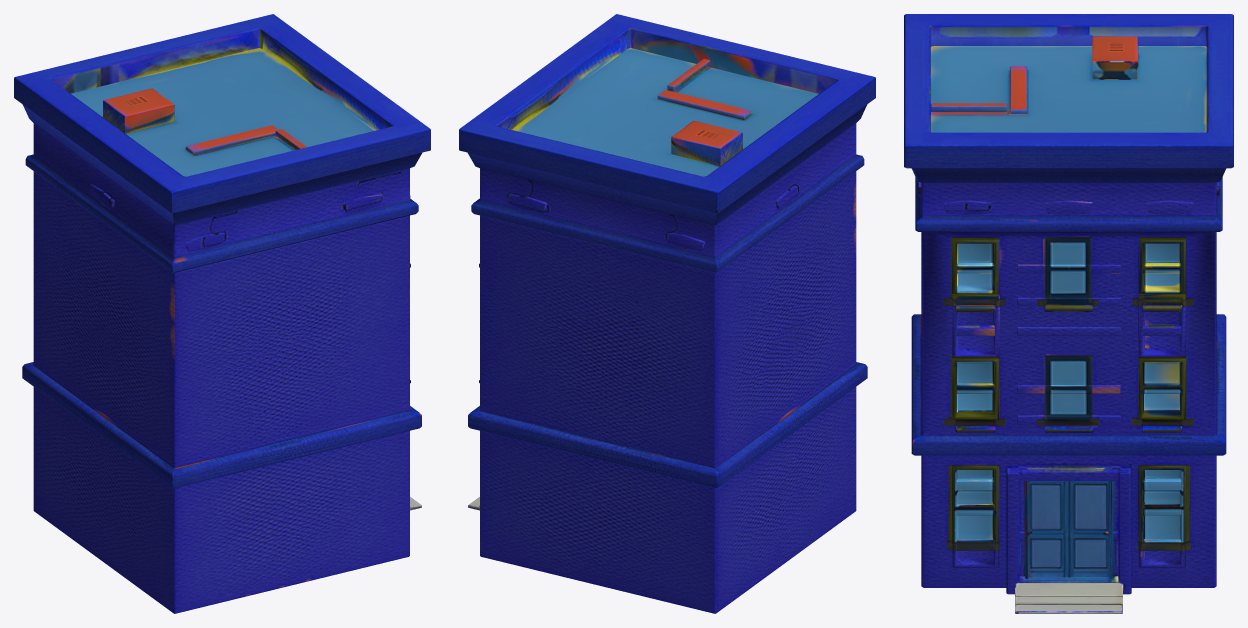
The model's file is buildingBlue_002.fbx.
3 views of the same model, side by side, from view 1: azimuth 30°, elevation 25°; view 2: azimuth 150°, elevation 25°; view 3: azimuth 270°, elevation 25° (orthographic). The views are drawn at different scales.
Parts seen in each view (by area): view 1: tripo_convert_39812008_5886_450b_83b3_f9960a14da0f_Mesh; view 2: tripo_convert_39812008_5886_450b_83b3_f9960a14da0f_Mesh; view 3: tripo_convert_39812008_5886_450b_83b3_f9960a14da0f_Mesh.
Boxes of the visible parts, <box> form: tripo_convert_39812008_5886_450b_83b3_f9960a14da0f_Mesh: <box>14,14,430,613</box>; tripo_convert_39812008_5886_450b_83b3_f9960a14da0f_Mesh: <box>459,14,875,613</box>; tripo_convert_39812008_5886_450b_83b3_f9960a14da0f_Mesh: <box>904,14,1233,613</box>.
Bounding box in the file's own units: 20.5 × 27.86 × 18.52.
Materials: 1 (1 with a texture image).
